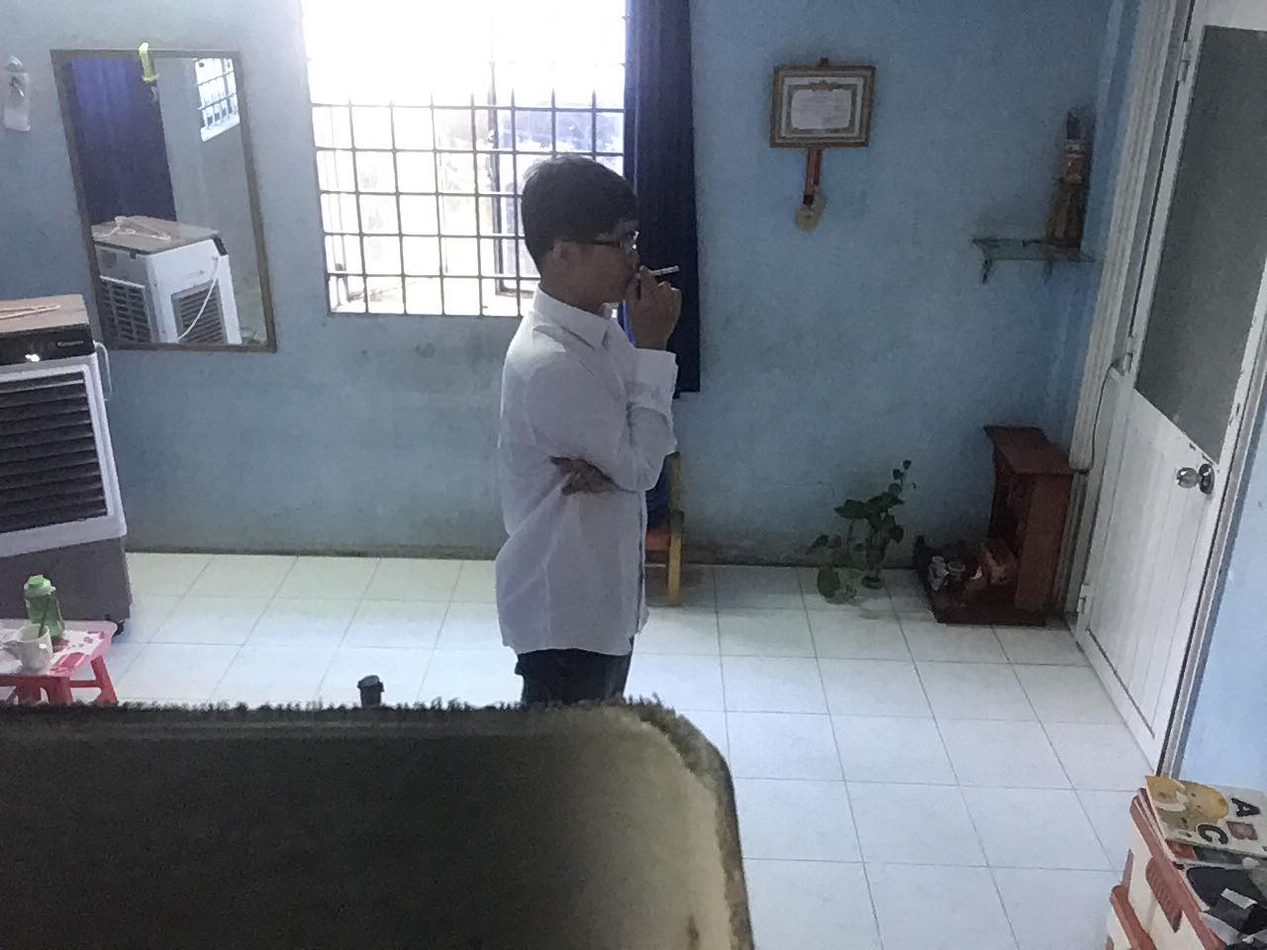cigarette: (644, 249, 691, 285)
person: (476, 143, 747, 720)
